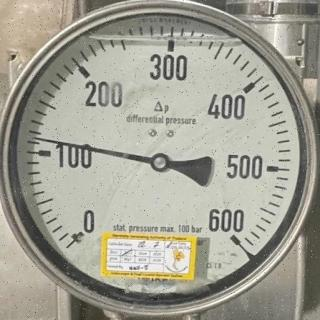gauge: (0, 0, 320, 320), (204, 207, 258, 261), (57, 207, 103, 256), (149, 151, 171, 173), (29, 131, 45, 143)
